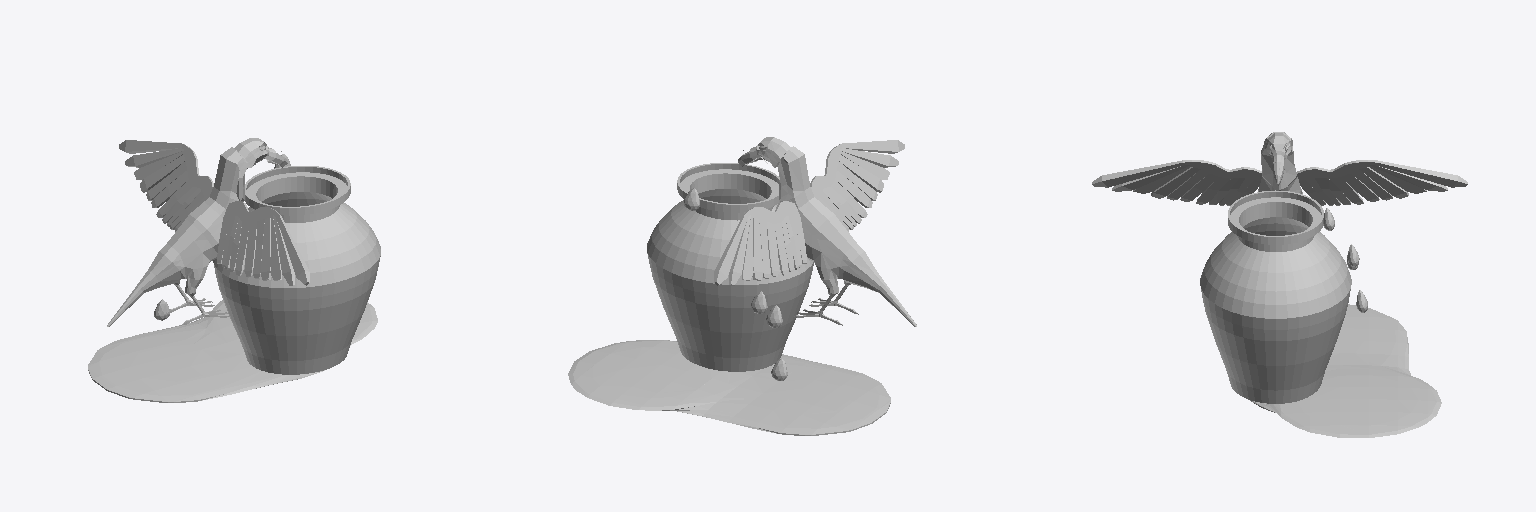
File: bheegahuakaua9.obj
3 renders of one model, left to right at view 1: azimuth 30°, elevation 25°; view 2: azimuth 150°, elevation 25°; view 3: azimuth 270°, elevation 25°, orthographic.
Parts seen in each view (by area): view 1: Circle, Cylinder, Mball; view 2: Circle, Mball, Cylinder; view 3: Circle, Mball, Cylinder.
Boxes of the visible parts, <box> form: Circle: <box>213,166,380,374</box>; Cylinder: <box>107,138,309,326</box>; Mball: <box>88,300,377,402</box>; Circle: <box>647,163,813,371</box>; Mball: <box>568,340,890,435</box>; Cylinder: <box>714,137,916,326</box>; Circle: <box>1200,190,1351,403</box>; Mball: <box>1250,304,1441,437</box>; Cylinder: <box>1092,132,1467,205</box>.
Bounding box in the file's own units: 1.18 × 0.8884 × 1.28.